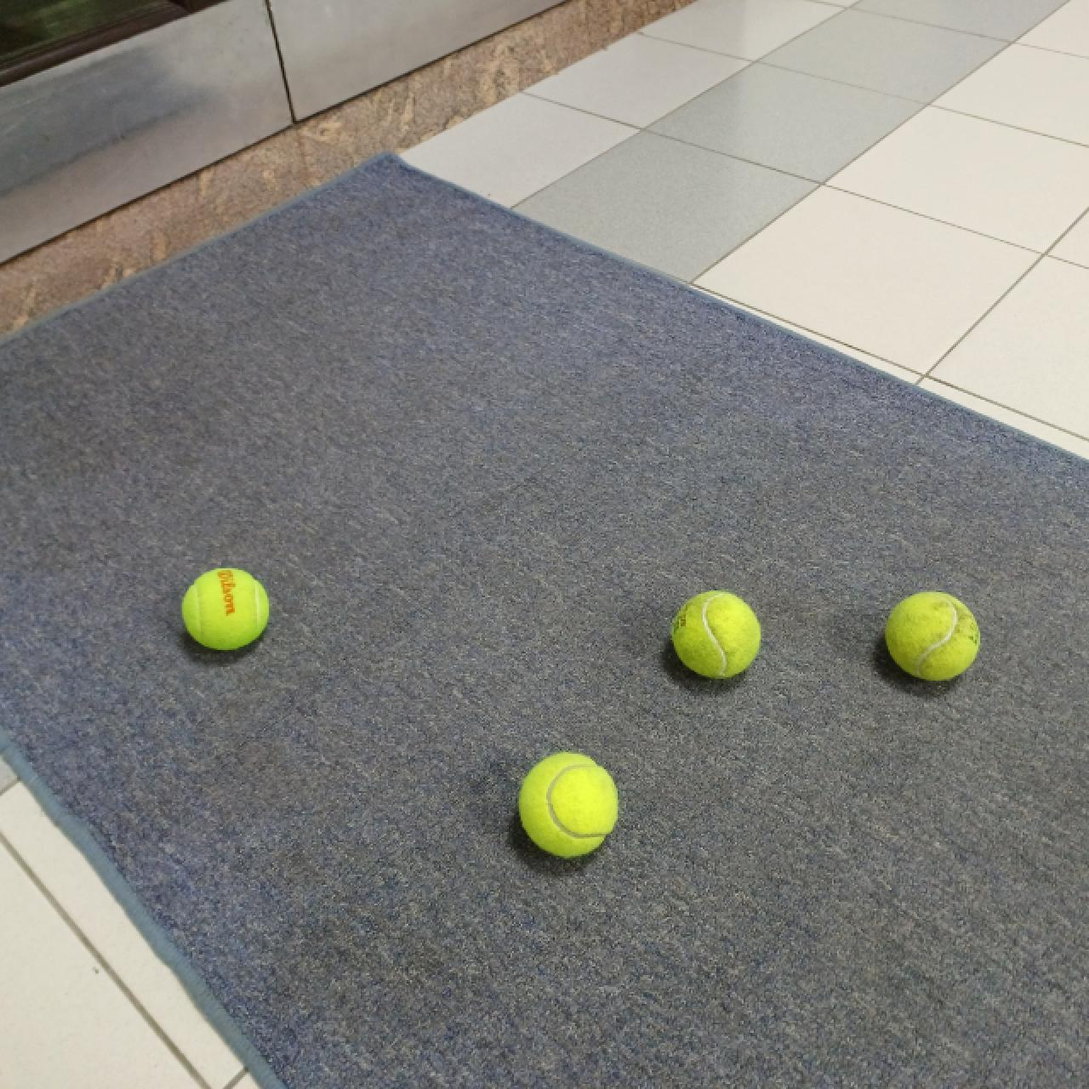tennis-ball: (518, 753, 620, 860), (667, 588, 764, 679), (887, 591, 981, 682), (178, 565, 271, 653)
